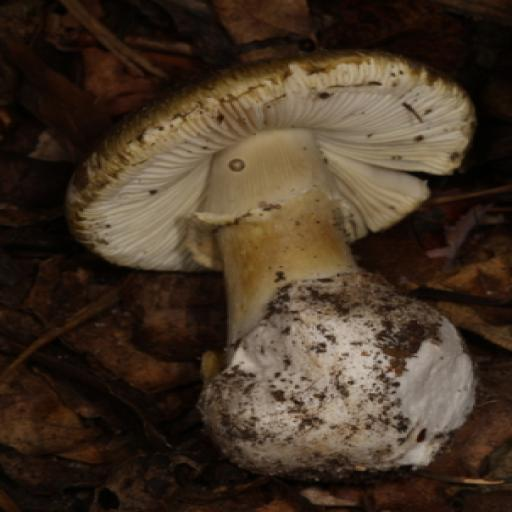mushroom: (67, 52, 474, 477)
